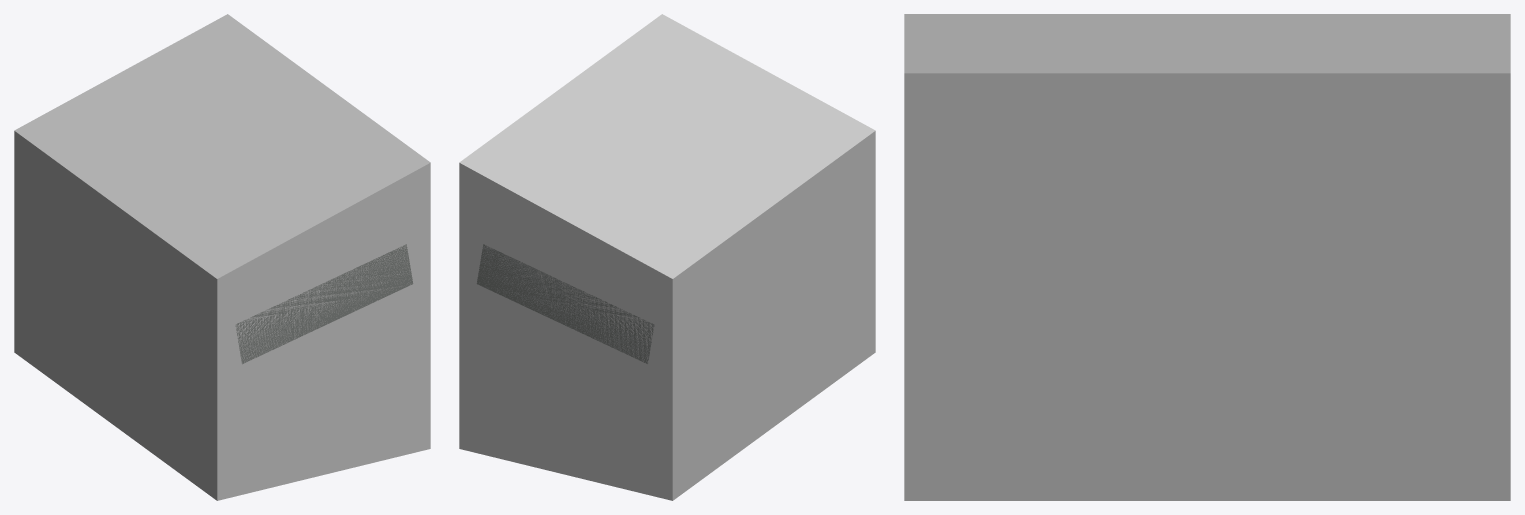
File: SM_GarbageCan_04.fbx
3 renders of one model, left to right at view 1: azimuth 30°, elevation 25°; view 2: azimuth 150°, elevation 25°; view 3: azimuth 270°, elevation 25°, orthographic. The views are drawn at different scales.
Visible parts, largest first — view 1: SM_GarbageCan_04_ConvexHulls, SM_GarbageCan_04; view 2: SM_GarbageCan_04_ConvexHulls, SM_GarbageCan_04; view 3: SM_GarbageCan_04_ConvexHulls.
Boxes of the visible parts, bbox=[...] form: SM_GarbageCan_04_ConvexHulls: bbox=[14, 14, 430, 500]; SM_GarbageCan_04: bbox=[235, 244, 413, 364]; SM_GarbageCan_04_ConvexHulls: bbox=[459, 14, 875, 500]; SM_GarbageCan_04: bbox=[476, 244, 654, 363]; SM_GarbageCan_04_ConvexHulls: bbox=[904, 14, 1510, 500].
Size of the model in its own units: 129 by 213 by 166.
2 materials, 1 textured.
